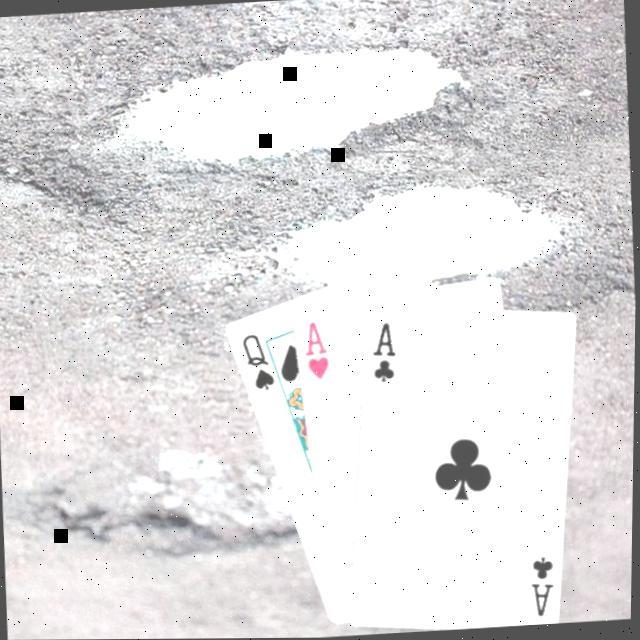AC: (368, 320, 402, 386), (528, 554, 560, 622)
AH: (300, 318, 334, 384)
QS: (240, 329, 280, 396)
